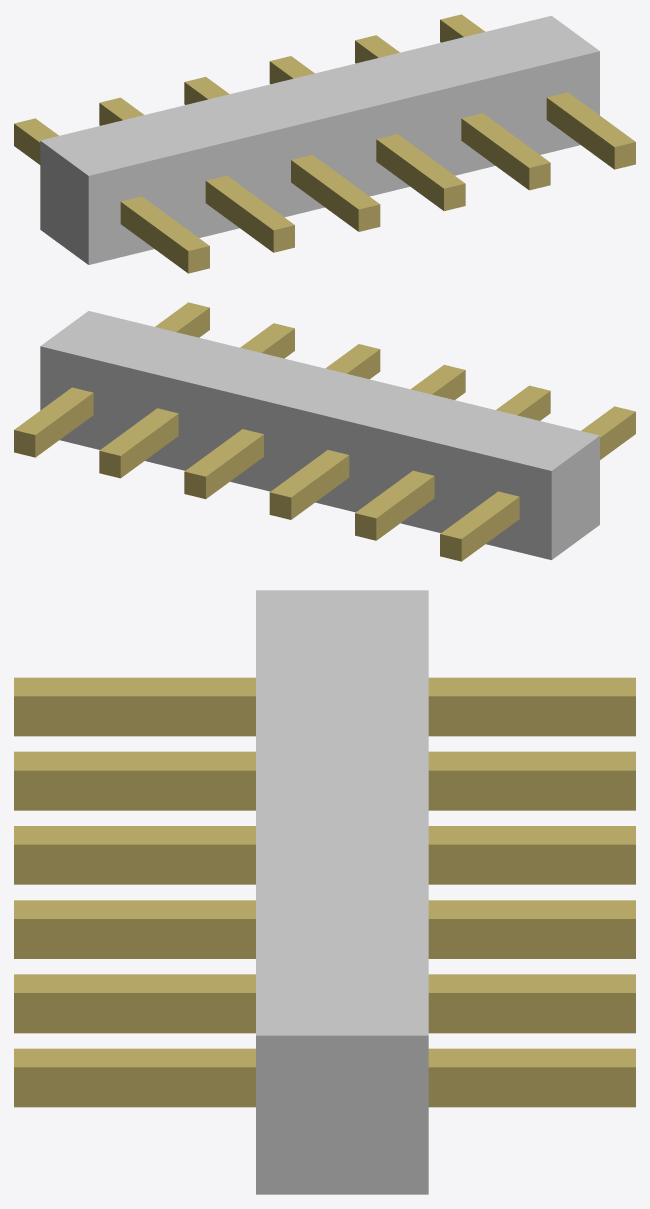
File: pin_header_254_6pin.glb
The picture shows the model from 3 angles, top to bottom: view 1: azimuth 30°, elevation 25°; view 2: azimuth 150°, elevation 25°; view 3: azimuth 270°, elevation 25°; orthographic projection. The views are drawn at different scales.
Visible parts, largest first — view 1: housing, pins; view 2: housing, pins; view 3: pins, housing.
Part boxes in pixels (x1,y1,x2,y2): housing: [40, 16, 599, 264]; pins: [14, 14, 635, 273]; housing: [40, 311, 599, 559]; pins: [14, 302, 635, 561]; pins: [14, 677, 635, 1107]; housing: [256, 590, 428, 1194].
Bounding box in the file's own units: 15.24 × 2.54 × 9.
